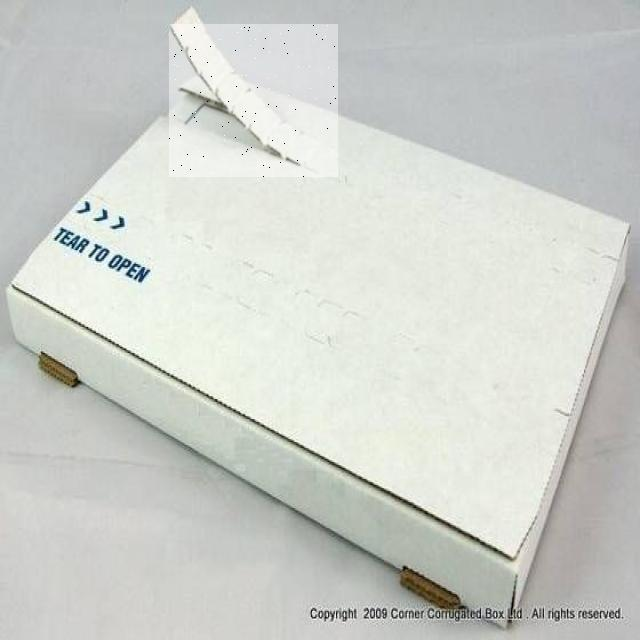tear: (169, 24, 338, 177)
